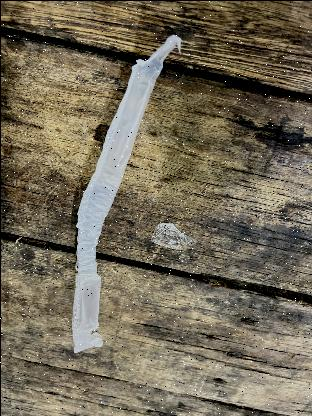Others: (72, 34, 189, 356)
